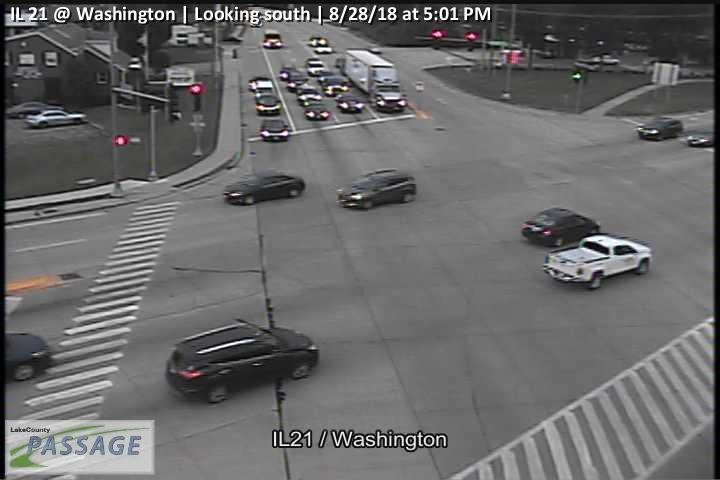SUV: (164, 316, 321, 404), (336, 168, 417, 210), (636, 115, 683, 141), (255, 92, 283, 115), (297, 84, 322, 106)
Sedan: (521, 207, 600, 247), (223, 170, 306, 204), (260, 117, 290, 141), (338, 94, 363, 113), (304, 102, 329, 120)
Truck: (544, 234, 654, 290), (343, 48, 408, 112)
